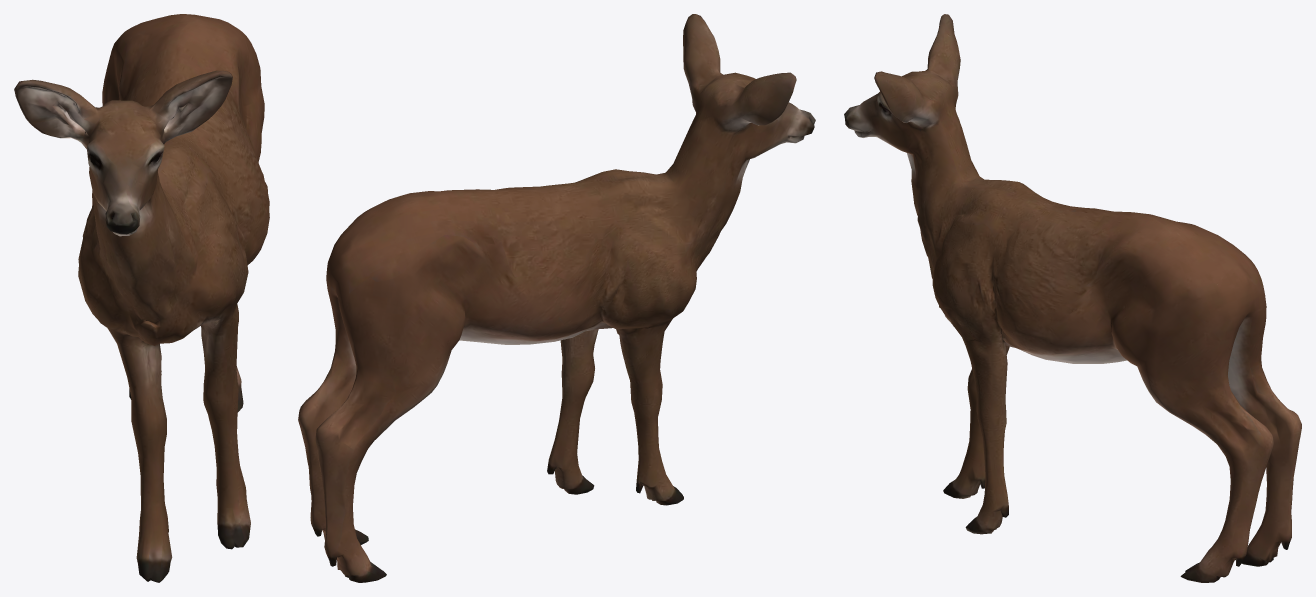
The model's file is deer-BdmR1lBG.glb.
The picture shows the model from 3 angles, left to right: view 1: azimuth 30°, elevation 25°; view 2: azimuth 150°, elevation 25°; view 3: azimuth 270°, elevation 25°; orthographic projection. The views are drawn at different scales.
Parts seen in each view (by area): view 1: geom0; view 2: geom0; view 3: geom0.
Boxes of the visible parts, <box> form: geom0: <box>14,14,269,582</box>; geom0: <box>298,14,815,582</box>; geom0: <box>844,14,1301,582</box>.
Bounding box in the file's own units: 0.7687 × 1 × 0.9699.
1 material, 1 textured.
